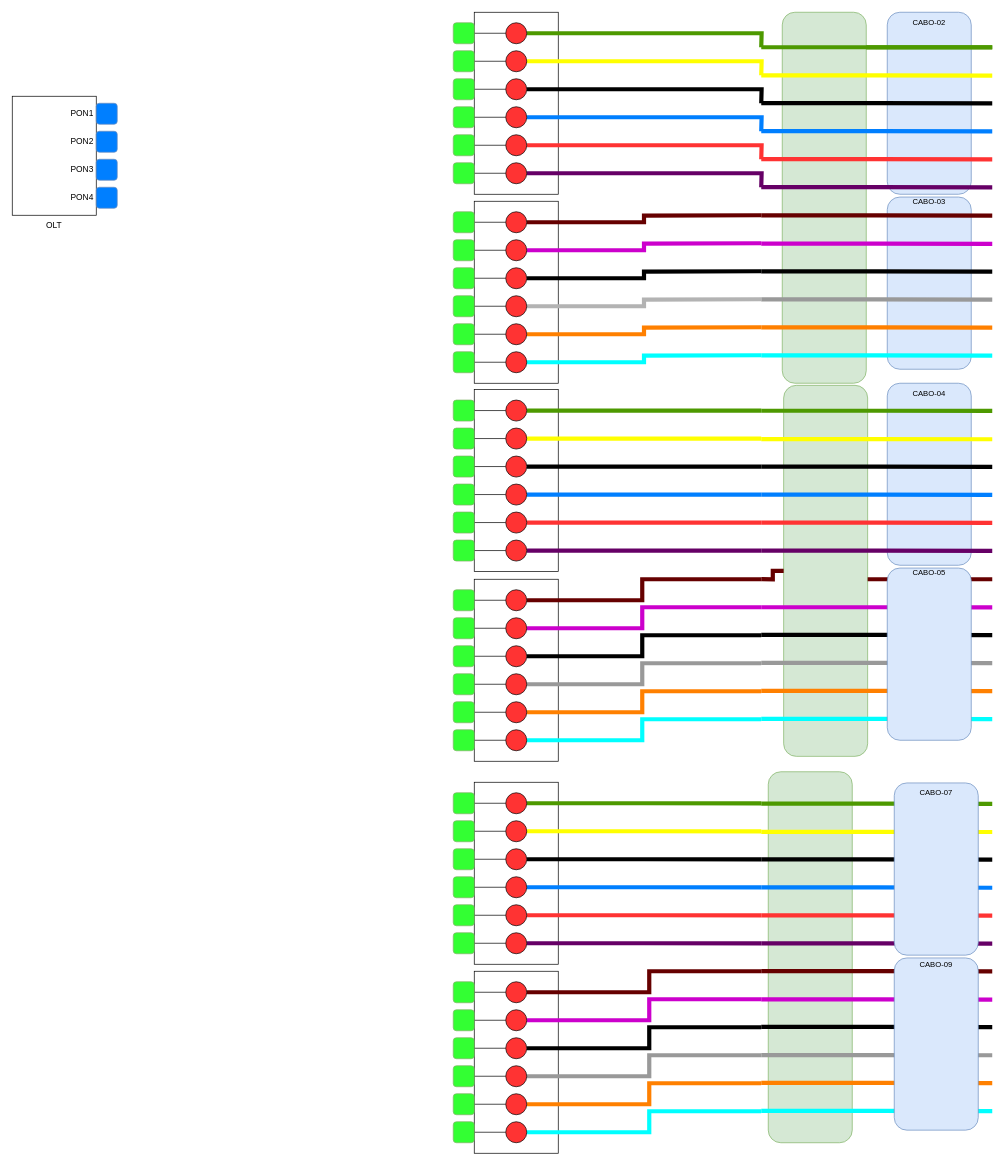
Image size: 1007x1166. Some labels were removed from this diagram. The shapes that lost their labels are listed below. From the top down, each one's centre as x and y in pixels, then its label:
(x=824, y=197): CABO-01
(x=810, y=957): CABO-06
